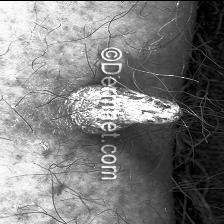Potentially Malignant Skin Tumors: (69, 88, 180, 134)
